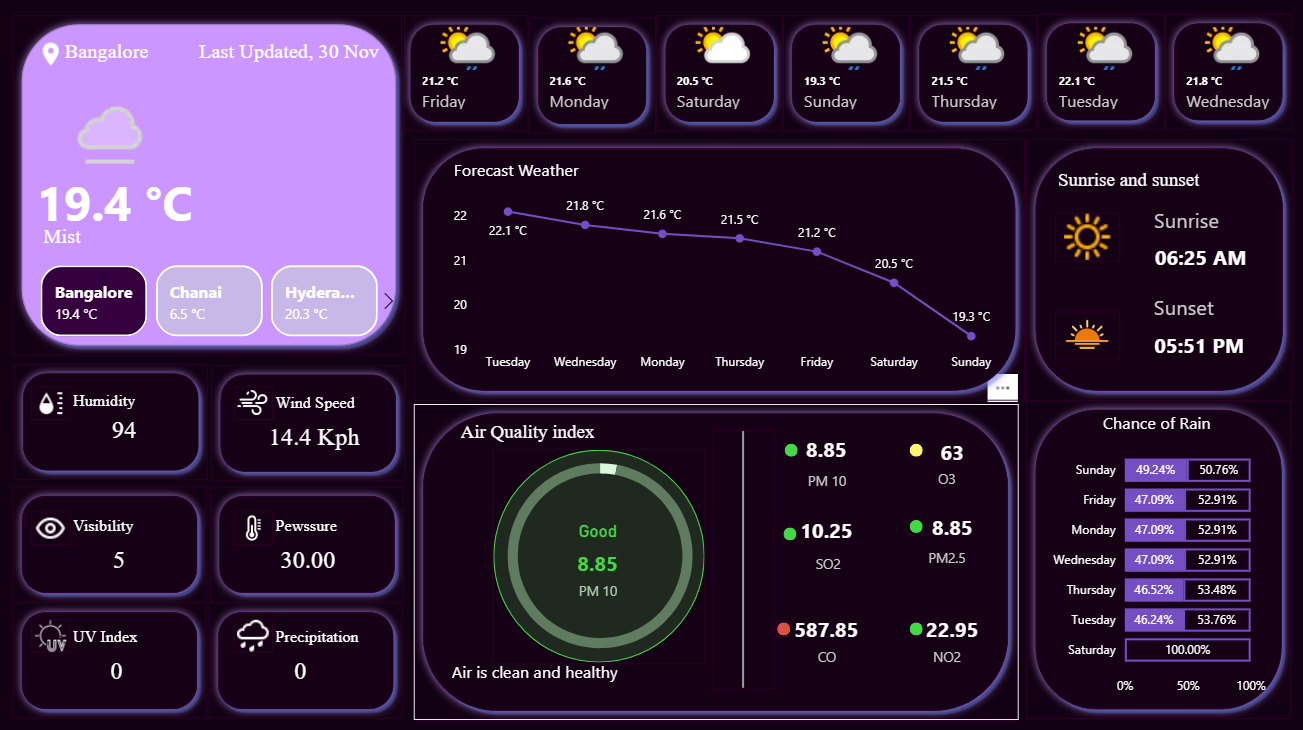

What the dashboard file says about the page in this screenshot:
{"tool":"powerbi","page":{"name":"Page 1","canvas":[1280,720],"ordinal":0},"visuals":[{"type":"shape","box":[12.3,16.5,385.6,333.4],"z":0},{"type":"shape","box":[393.8,16.5,124.9,113.9],"z":1000},{"type":"shape","box":[518.7,17.8,124.9,113.9],"z":2000},{"type":"shape","box":[406.7,397.1,592.9,310.8],"z":3000},{"type":"shape","box":[1143.1,15.1,124.9,113.9],"z":4000},{"type":"shape","box":[768.4,16.5,124.9,113.9],"z":5000},{"type":"shape","box":[1018.2,15.1,124.9,113.9],"z":6000},{"type":"shape","box":[643.6,16.5,124.9,113.9],"z":7000},{"type":"shape","box":[893.3,16.5,124.9,113.9],"z":8000},{"type":"shape","box":[1007.4,137.4,261.4,256.4],"z":9000},{"type":"shape","box":[13.7,358.1,190.7,113.9],"z":10000},{"type":"shape","box":[1007.4,393.9,260.1,312.9],"z":11000},{"type":"shape","box":[406.1,137.4,600,256.4],"z":12000},{"type":"shape","box":[207.2,359.5,190.7,113.9],"z":13000},{"type":"shape","box":[12.3,478.9,190.7,113.9],"z":14000},{"type":"shape","box":[12.3,592.8,190.7,113.9],"z":15000},{"type":"shape","box":[205.8,478.9,190.7,113.9],"z":16000},{"type":"shape","box":[204.5,592.8,190.7,113.9],"z":17000},{"type":"advancedSlicerVisual","fields":{"Values":["Locations.location.name"]},"box":[14.7,256.4,382.8,81],"z":18000},{"type":"shape","box":[30.7,163.2,190.2,69.9],"z":19000},{"type":"shape","box":[39.3,209.8,190.2,46.6],"z":20000},{"type":"shape","box":[60.1,28.2,108,46.6],"z":21000},{"type":"shape","box":[168.1,28.2,207.4,46.6],"z":22000},{"type":"image","box":[30.7,40.5,38,27],"z":23000},{"type":"cardVisual","fields":{"Data":["Min(Current.current.condition.icon)"]},"box":[30.7,74.8,148.5,104.3],"z":24000},{"type":"image","box":[30.7,503.1,38,33.1],"z":25000},{"type":"shape","box":[68.7,496.9,108,39.3],"z":26000},{"type":"image","box":[30.7,380.4,38,33.1],"z":27000},{"type":"image","box":[30.7,608.6,38,33.1],"z":28000},{"type":"image","box":[229.4,380.4,38,33.1],"z":29000},{"type":"image","box":[229.4,503.1,38,33.1],"z":30000},{"type":"image","box":[229.4,608.6,38,33.1],"z":31000},{"type":"shape","box":[68.7,374.2,108,39.3],"z":32000},{"type":"shape","box":[68.7,606.1,108,39.3],"z":33000},{"type":"shape","box":[267.5,376.7,108,39.3],"z":34000},{"type":"shape","box":[267.5,496.9,108,39.3],"z":35000},{"type":"shape","box":[267.5,606.1,108,39.3],"z":36000},{"type":"cardVisual","fields":{"Data":["Sum(Current.current.humidity)"]},"box":[51.6,394.4,141.3,56.5],"z":37000},{"type":"cardVisual","fields":{"Data":["_Measures.wind_Speed"]},"box":[229.8,396.9,158.5,65.1],"z":38000},{"type":"cardVisual","fields":{"Data":["Sum(Current.current.pressure_in)"]},"box":[237.1,516,131.5,65.1],"z":39000},{"type":"cardVisual","fields":{"Data":["Sum(Current.current.vis_km)"]},"box":[51.6,516,131.5,65.1],"z":40000},{"type":"cardVisual","fields":{"Data":["Sum(Current.current.uv)"]},"box":[49.1,625.4,131.5,65.1],"z":41000},{"type":"cardVisual","fields":{"Data":["Sum(Current.current.precip_in)"]},"box":[229.8,625.4,131.5,65.1],"z":42000},{"type":"advancedSlicerVisual","fields":{"Values":["Forecast_Days.Day_Name"]},"box":[396.9,20.9,883.4,105.7],"z":43000},{"type":"lineChart","title":"Forecast Weather","fields":{"Y":["Sum(Forecast_Days.forecast.forecastday.day.avgtemp_c)"],"Category":["Forecast_Days.Day_Name"]},"box":[440.5,155.8,548.5,218.4],"z":44000},{"type":"shape","box":[1035.4,158.4,190.3,38.6],"z":45000},{"type":"shape","box":[1130.1,228.2,130.1,49.1],"z":46000},{"type":"shape","box":[1130.1,317.8,117.8,41.7],"z":47000},{"type":"shape","box":[1130.1,198.8,117.8,35.6],"z":48000},{"type":"shape","box":[1130.1,284.7,128.8,34.4],"z":49000},{"type":"image","box":[1035.6,209.8,63.8,47.9],"z":50000},{"type":"image","box":[1035.6,305.5,63.8,47.9],"z":51000},{"type":"hundredPercentStackedBarChart","title":"Chance of Rain","fields":{"Y":["Sum(Forecast_Days.forecast.forecastday.day.daily_chance_of_rain)","_Measures.Left_value_Rain"],"Category":["Forecast_Days.Day_Name"]},"box":[1023.3,404.9,224.5,287.1],"z":52000},{"type":"shape","box":[449.1,404.9,141.1,39.3],"z":53000},{"type":"cardVisual","fields":{"Data":["Sum(Current.current.air_quality.o3)"]},"box":[893.8,420.5,83.1,45.3],"z":54000},{"type":"shape","box":[902.5,456.9,55.2,28.9],"z":55000},{"type":"cardVisual","fields":{"Data":["Sum(Current.current.air_quality.pm2_5)"]},"box":[893.8,494.7,83.1,45.3],"z":56000},{"type":"cardVisual","fields":{"Data":["Sum(Current.current.air_quality.no2)"]},"box":[893.8,594.2,83.1,45.3],"z":57000},{"type":"cardVisual","fields":{"Data":["Sum(Current.current.air_quality.pm10)"]},"box":[760.3,416.7,102,45.3],"z":58000},{"type":"cardVisual","fields":{"Data":["Sum(Current.current.air_quality.so2)"]},"box":[760.3,497.2,102,45.3],"z":59000},{"type":"cardVisual","fields":{"Data":["Sum(Current.current.air_quality.co)"]},"box":[760.3,594.2,102,45.3],"z":60000},{"type":"shape","box":[902.5,533.4,55.2,28.9],"z":61000},{"type":"shape","box":[784.3,458.2,55.4,29],"z":62000},{"type":"shape","box":[788,540,50.4,29],"z":63000},{"type":"shape","box":[902.5,630.1,55.2,28.9],"z":64000},{"type":"shape","box":[784.3,631.9,55.4,27.7],"z":65000},{"type":"shape","box":[769.2,435.6,15.1,15.1],"z":66000},{"type":"shape","box":[767.9,517.4,15.1,15.1],"z":67000},{"type":"shape","box":[892.5,435.6,15.1,15.1],"z":68000},{"type":"shape","box":[892.5,509.8,15.1,15.1],"z":69000},{"type":"shape","box":[761.6,610.5,15.1,15.1],"z":70000},{"type":"shape","box":[892.5,610.5,15.1,15.1],"z":71000},{"type":"shape","box":[699.9,423,60.4,254.3],"z":72000},{"type":"cardVisual","fields":{"Data":["Sum(Current.current.air_quality.pm10)"]},"box":[529.9,512.1,113.7,61.6],"z":73000},{"type":"donutChart","fields":{"Y":["Sum(Current.current.air_quality.pm10)","_Measures.Left_Value_PM10"]},"box":[456,428.6,265.6,236.9],"z":74000},{"type":"shape","box":[560,565.5,54.8,28.8],"z":75000},{"type":"shape","box":[483.4,442.3,209.5,210.9],"z":76000},{"type":"shape","box":[440.9,640.8,258.8,39.7],"z":77000}]}

Visuals, with their boxes in screenshot pixels (x1, y1, x2, y2), scaled from the page's 1280x720 canvas onto the 1303x730 screenshot:
shape: locate(13, 17, 405, 355)
shape: locate(401, 17, 528, 132)
shape: locate(528, 18, 655, 134)
shape: locate(414, 403, 1018, 718)
shape: locate(1164, 15, 1291, 131)
shape: locate(782, 17, 909, 132)
shape: locate(1036, 15, 1164, 131)
shape: locate(655, 17, 782, 132)
shape: locate(909, 17, 1036, 132)
shape: locate(1026, 139, 1292, 399)
shape: locate(14, 363, 208, 479)
shape: locate(1026, 399, 1290, 717)
shape: locate(413, 139, 1024, 399)
shape: locate(211, 364, 405, 480)
shape: locate(13, 486, 207, 601)
shape: locate(13, 601, 207, 717)
shape: locate(209, 486, 404, 601)
shape: locate(208, 601, 402, 717)
advancedSlicerVisual - Locations.location.name: locate(15, 260, 405, 342)
shape: locate(31, 165, 225, 236)
shape: locate(40, 213, 234, 260)
shape: locate(61, 29, 171, 76)
shape: locate(171, 29, 382, 76)
image: locate(31, 41, 70, 68)
cardVisual - Min(Current.current.condition.icon): locate(31, 76, 182, 182)
image: locate(31, 510, 70, 544)
shape: locate(70, 504, 180, 544)
image: locate(31, 386, 70, 419)
image: locate(31, 617, 70, 651)
image: locate(234, 386, 272, 419)
image: locate(234, 510, 272, 544)
image: locate(234, 617, 272, 651)
shape: locate(70, 379, 180, 419)
shape: locate(70, 615, 180, 654)
shape: locate(272, 382, 382, 422)
shape: locate(272, 504, 382, 544)
shape: locate(272, 615, 382, 654)
cardVisual - Sum(Current.current.humidity): locate(53, 400, 196, 457)
cardVisual - _Measures.wind_Speed: locate(234, 402, 395, 468)
cardVisual - Sum(Current.current.pressure_in): locate(241, 523, 375, 589)
cardVisual - Sum(Current.current.vis_km): locate(53, 523, 186, 589)
cardVisual - Sum(Current.current.uv): locate(50, 634, 184, 700)
cardVisual - Sum(Current.current.precip_in): locate(234, 634, 368, 700)
advancedSlicerVisual - Forecast_Days.Day_Name: locate(404, 21, 1302, 128)
"Forecast Weather" lineChart: locate(448, 158, 1007, 379)
shape: locate(1054, 161, 1248, 200)
shape: locate(1150, 231, 1283, 281)
shape: locate(1150, 322, 1270, 364)
shape: locate(1150, 202, 1270, 238)
shape: locate(1150, 289, 1282, 324)
image: locate(1054, 213, 1119, 261)
image: locate(1054, 310, 1119, 358)
"Chance of Rain" hundredPercentStackedBarChart: locate(1042, 411, 1270, 702)
shape: locate(457, 411, 601, 450)
cardVisual - Sum(Current.current.air_quality.o3): locate(910, 426, 994, 472)
shape: locate(919, 463, 975, 493)
cardVisual - Sum(Current.current.air_quality.pm2_5): locate(910, 502, 994, 548)
cardVisual - Sum(Current.current.air_quality.no2): locate(910, 602, 994, 648)
cardVisual - Sum(Current.current.air_quality.pm10): locate(774, 422, 878, 468)
cardVisual - Sum(Current.current.air_quality.so2): locate(774, 504, 878, 550)
cardVisual - Sum(Current.current.air_quality.co): locate(774, 602, 878, 648)
shape: locate(919, 541, 975, 570)
shape: locate(798, 465, 855, 494)
shape: locate(802, 548, 853, 577)
shape: locate(919, 639, 975, 668)
shape: locate(798, 641, 855, 669)
shape: locate(783, 442, 798, 457)
shape: locate(782, 525, 797, 540)
shape: locate(909, 442, 924, 457)
shape: locate(909, 517, 924, 532)
shape: locate(775, 619, 791, 634)
shape: locate(909, 619, 924, 634)
shape: locate(712, 429, 774, 687)
cardVisual - Sum(Current.current.air_quality.pm10): locate(539, 519, 655, 582)
donutChart - Sum(Current.current.air_quality.pm10) x _Measures.Left_Value_PM10: locate(464, 435, 735, 675)
shape: locate(570, 573, 626, 603)
shape: locate(492, 448, 705, 662)
shape: locate(449, 650, 712, 690)
